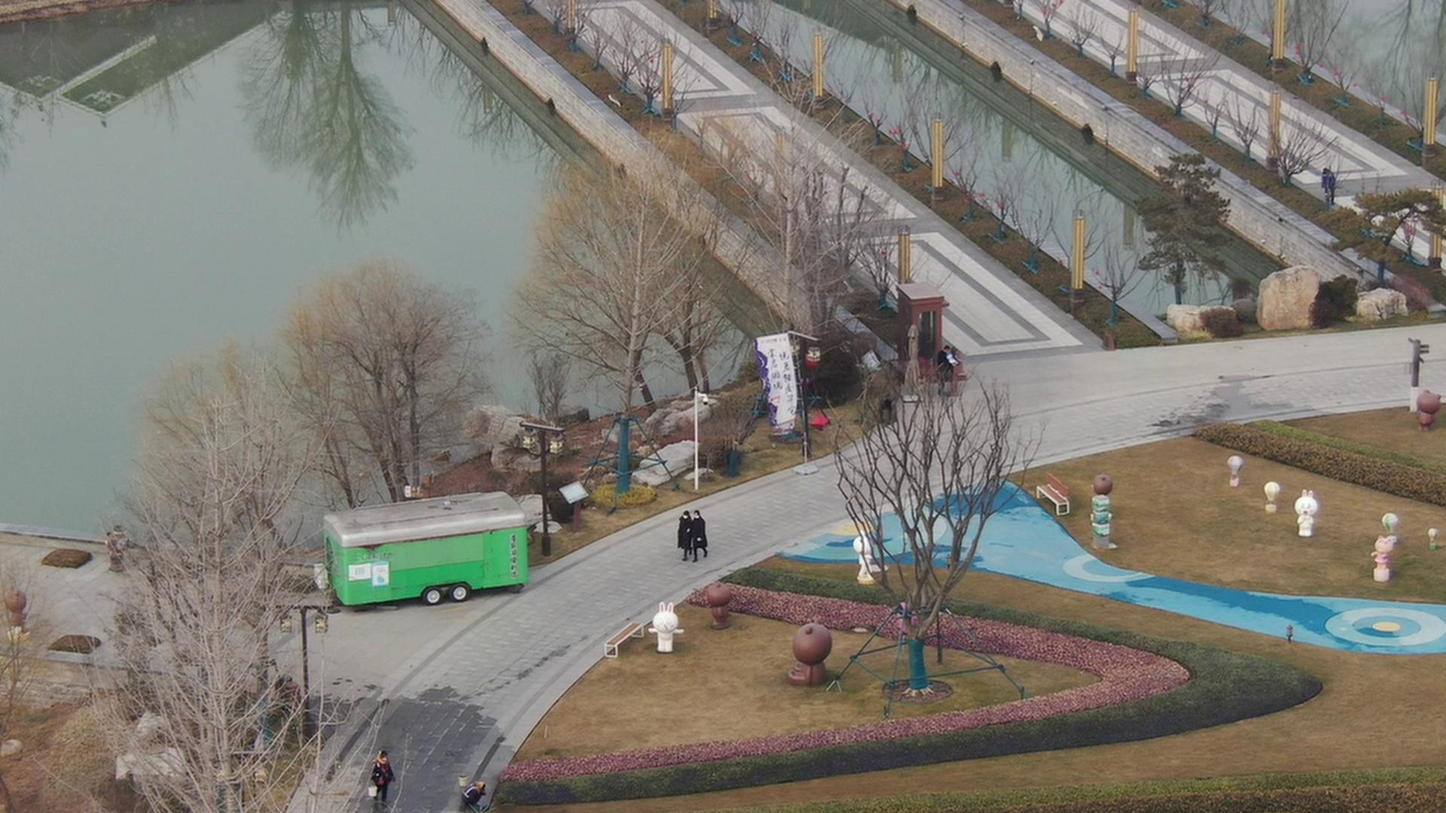class_2: (675, 511, 707, 575)
human: (371, 751, 394, 809), (459, 783, 490, 813)
